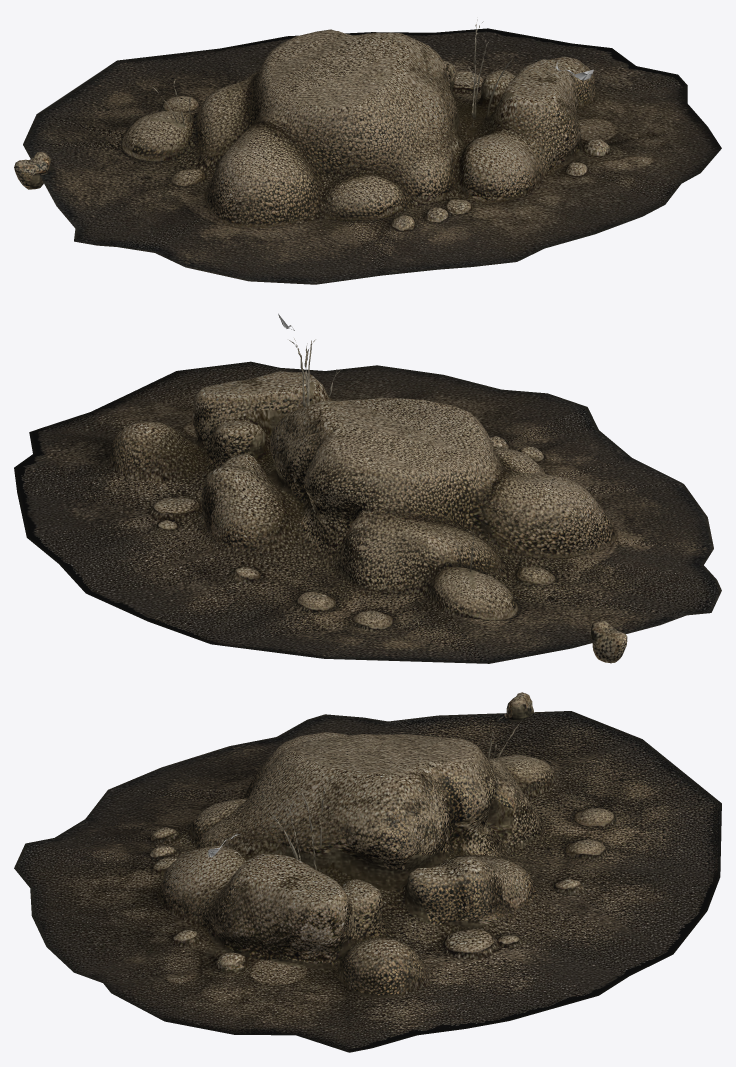
File: rock+pile+3d+model.fbx
3 views of the same model, one above another, from view 1: azimuth 30°, elevation 25°; view 2: azimuth 150°, elevation 25°; view 3: azimuth 270°, elevation 25° (orthographic). The views are drawn at different scales.
Parts seen in each view (by area): view 1: meshes[0]; view 2: meshes[0]; view 3: meshes[0].
Boxes of the visible parts, x1=… form: meshes[0]: x1=14, y1=19, x2=721, y2=284; meshes[0]: x1=14, y1=313, x2=721, y2=663; meshes[0]: x1=14, y1=692, x2=721, y2=1052.
Bounding box in the file's own units: 0.998 × 0.2246 × 0.8535.
1 material, 1 textured.
